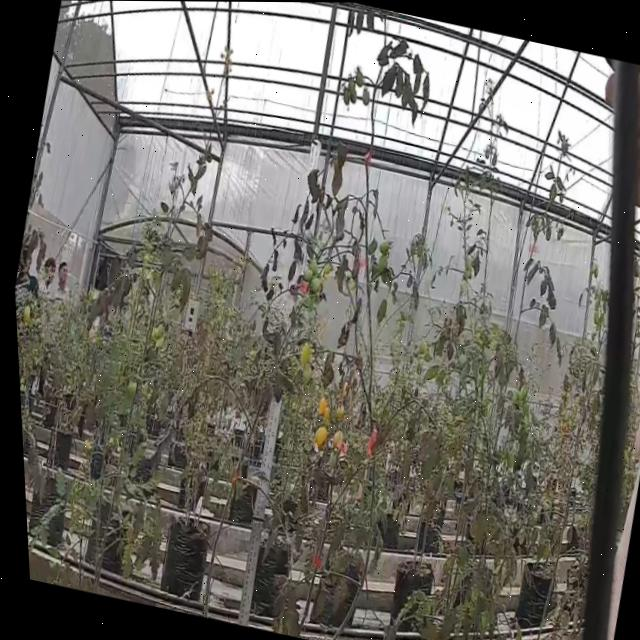fine: (306, 422, 325, 453), (311, 396, 324, 416)
unripe: (293, 340, 311, 370), (304, 273, 320, 297)
